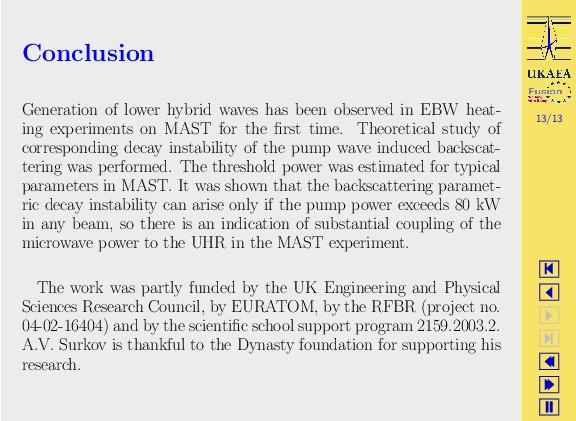paragraph: (11, 96, 517, 387)
title: (19, 37, 158, 68)
